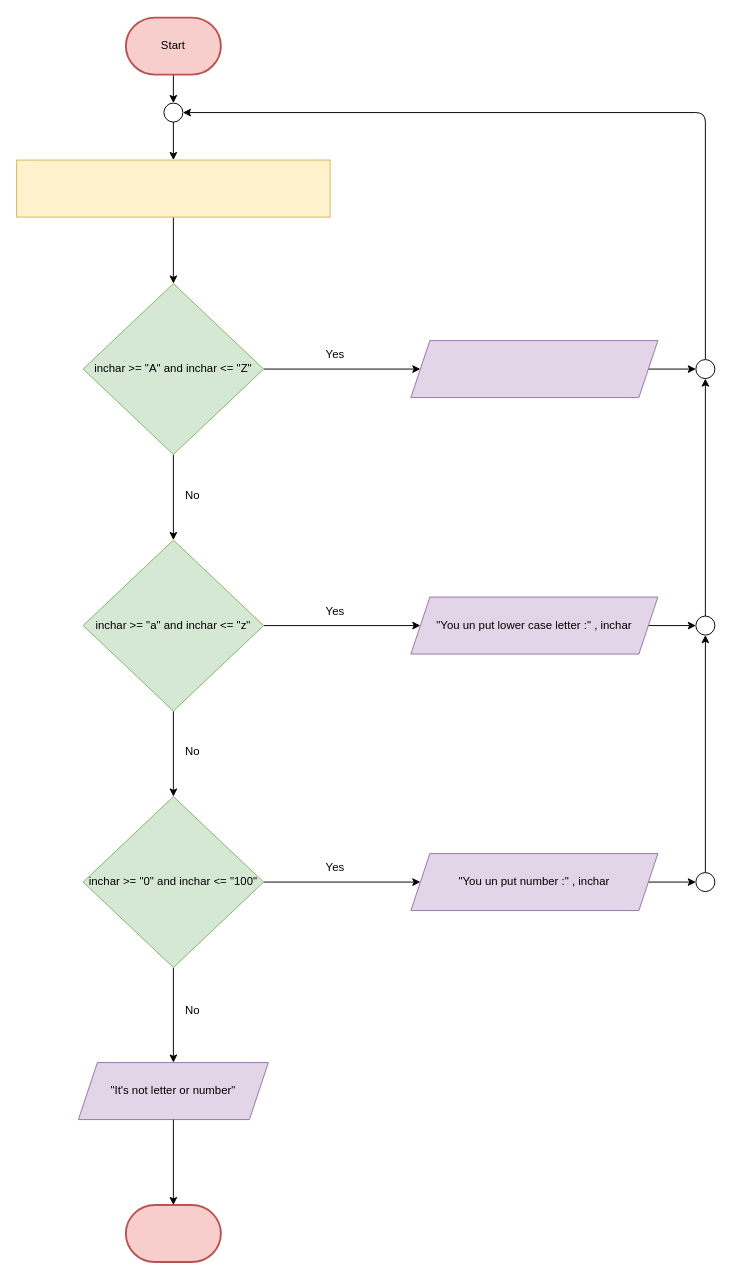
Image size: 732x1279. Some labels were removed from this diagram. Each missing label, with the box of its shape:
"You un put upper case letter :" , inchar: (410, 340, 658, 398)
inchar = input("Input one character :"): (16, 159, 330, 217)
Stop: (124, 1204, 221, 1263)
